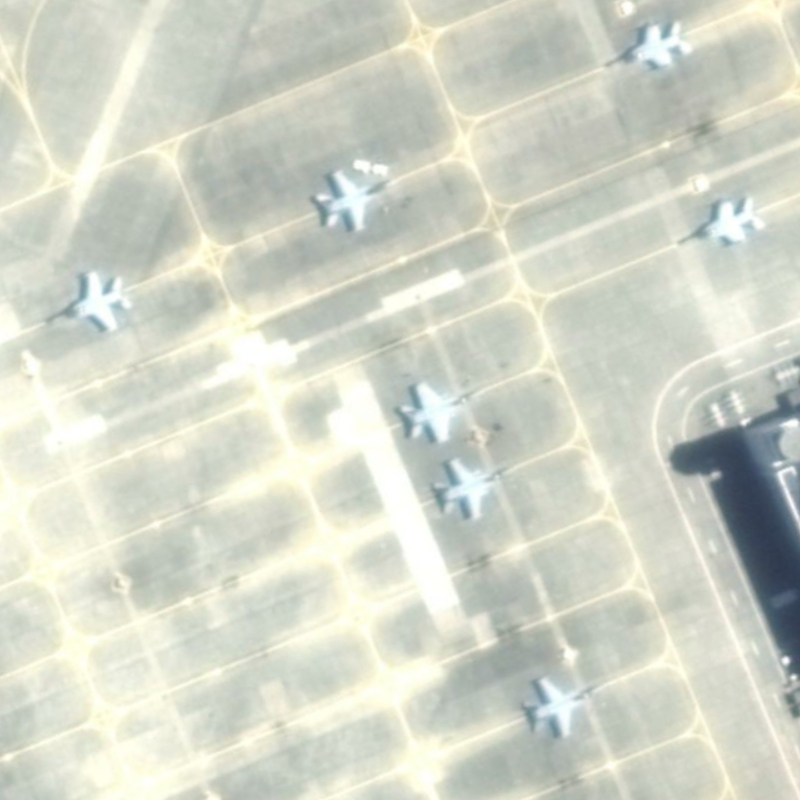A16: (394, 371, 499, 452), (39, 263, 136, 339), (518, 664, 609, 744), (309, 165, 399, 238), (426, 455, 523, 521), (668, 190, 771, 248), (599, 17, 697, 72)
